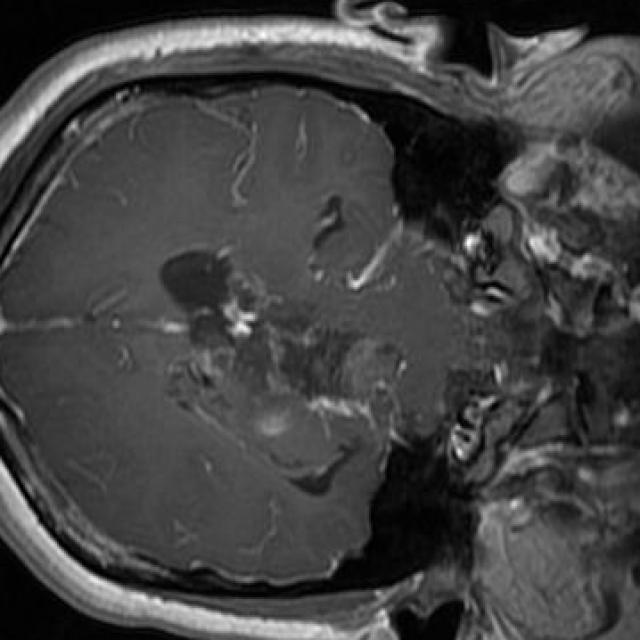glioma: (160, 246, 406, 494)
